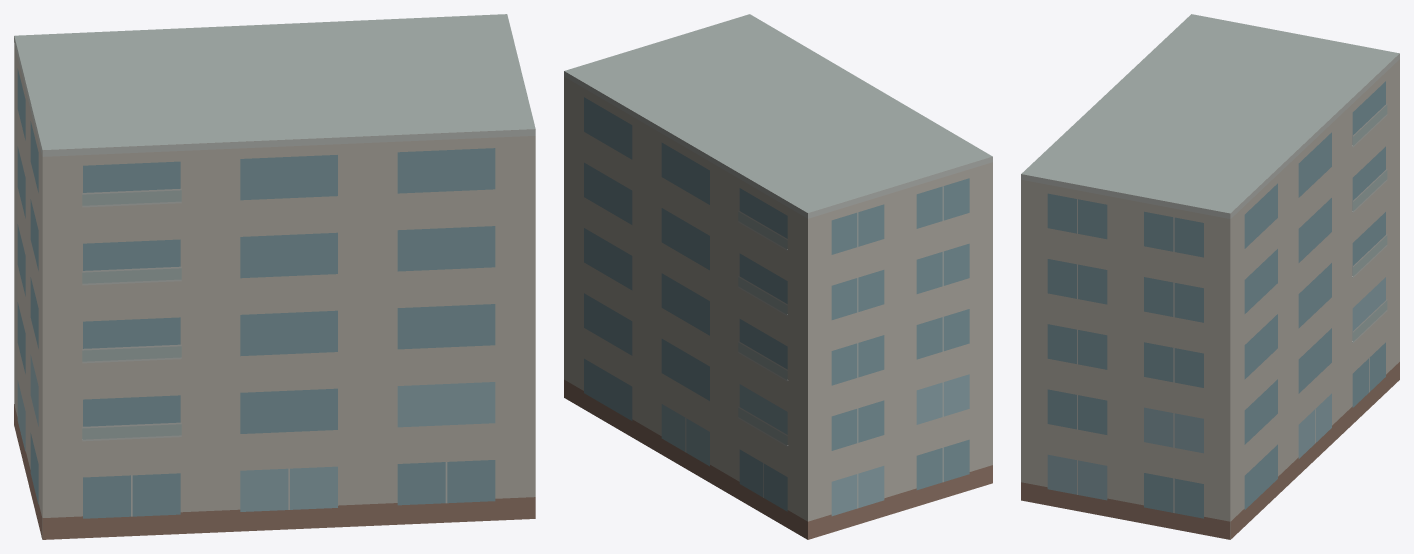
Rendered from survey-upis-32658802.glb.
3 renders of one model, left to right at view 1: azimuth 30°, elevation 25°; view 2: azimuth 150°, elevation 25°; view 3: azimuth 270°, elevation 25°, orthographic. The views are drawn at different scales.
Visible parts, largest first — view 1: survey-upis-32658802.tmp; view 2: survey-upis-32658802.tmp; view 3: survey-upis-32658802.tmp.
Part boxes in pixels (bbox=[...]): survey-upis-32658802.tmp: bbox=[14, 14, 535, 539]; survey-upis-32658802.tmp: bbox=[564, 14, 992, 539]; survey-upis-32658802.tmp: bbox=[1021, 14, 1399, 539].
Size of the model in its own units: 18.49 by 14.1 by 14.84.
